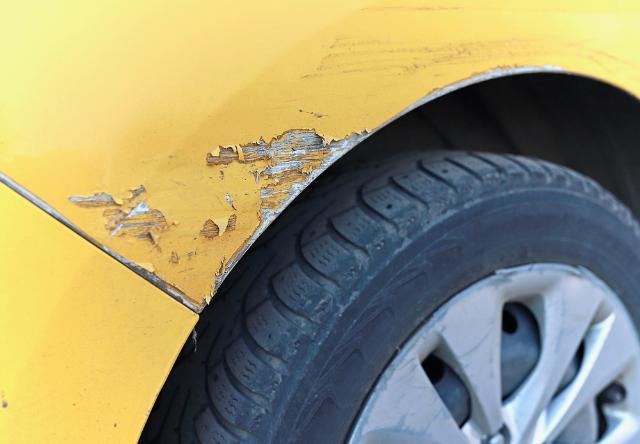scratch: (43, 0, 586, 311)
